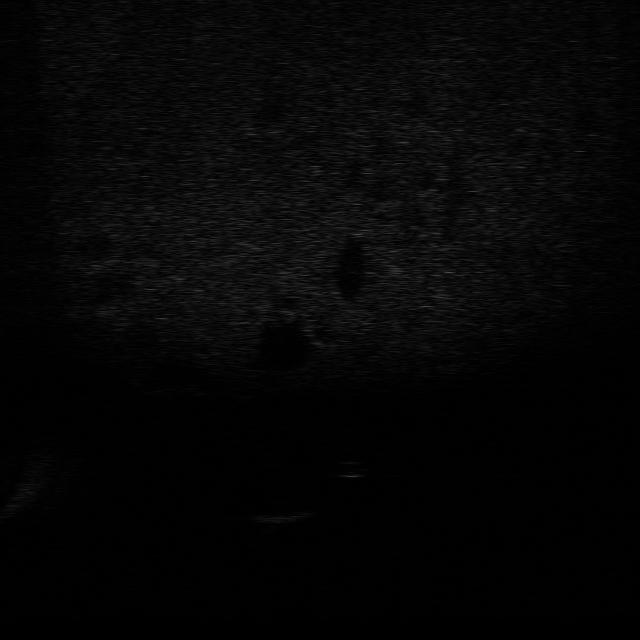ball: (330, 455, 376, 481)
square cage: (244, 499, 315, 535)
tyre: (423, 351, 475, 382)
